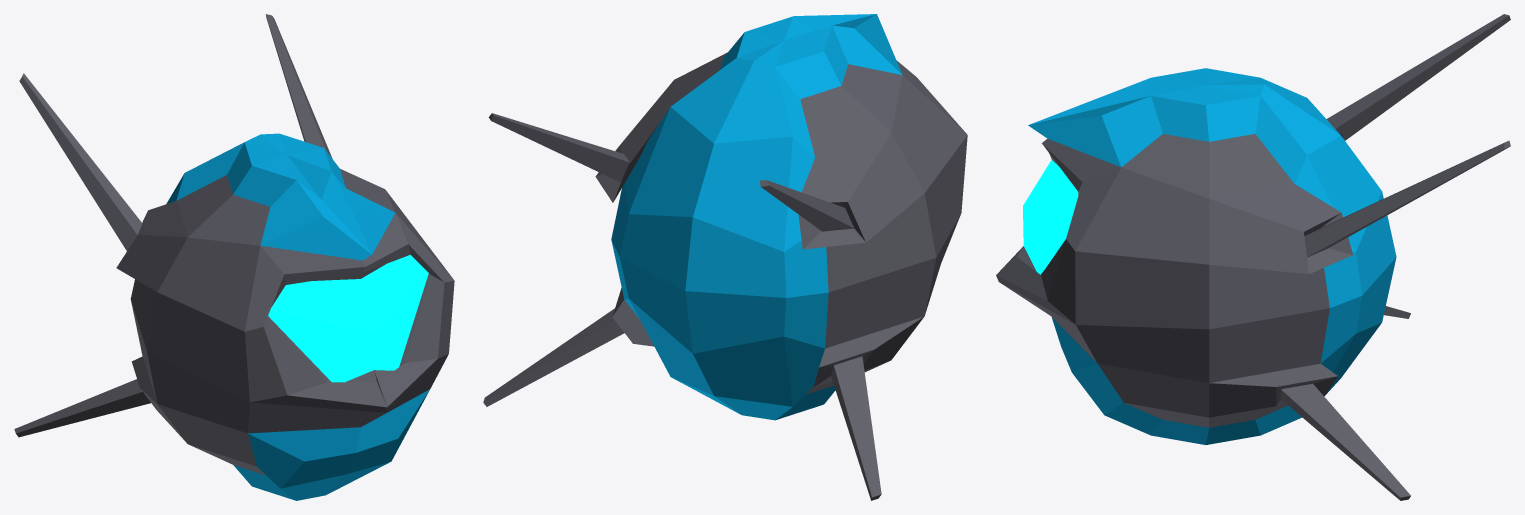
The model's file is ExploreDron.fbx.
3 renders of one model, left to right at view 1: azimuth 30°, elevation 25°; view 2: azimuth 150°, elevation 25°; view 3: azimuth 270°, elevation 25°, orthographic. The views are drawn at different scales.
Visible parts, largest first — view 1: Sphere; view 2: Sphere; view 3: Sphere.
Part boxes in pixels (<box>): Sphere: <box>14,14,454,500</box>; Sphere: <box>483,14,967,500</box>; Sphere: <box>996,14,1510,500</box>.
Bounding box in the file's own units: 64.55 × 56.65 × 75.39.
